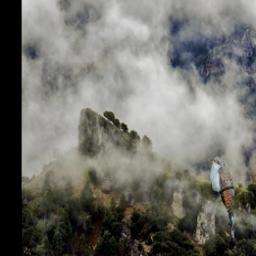Cuckoo: (211, 156, 235, 244)
